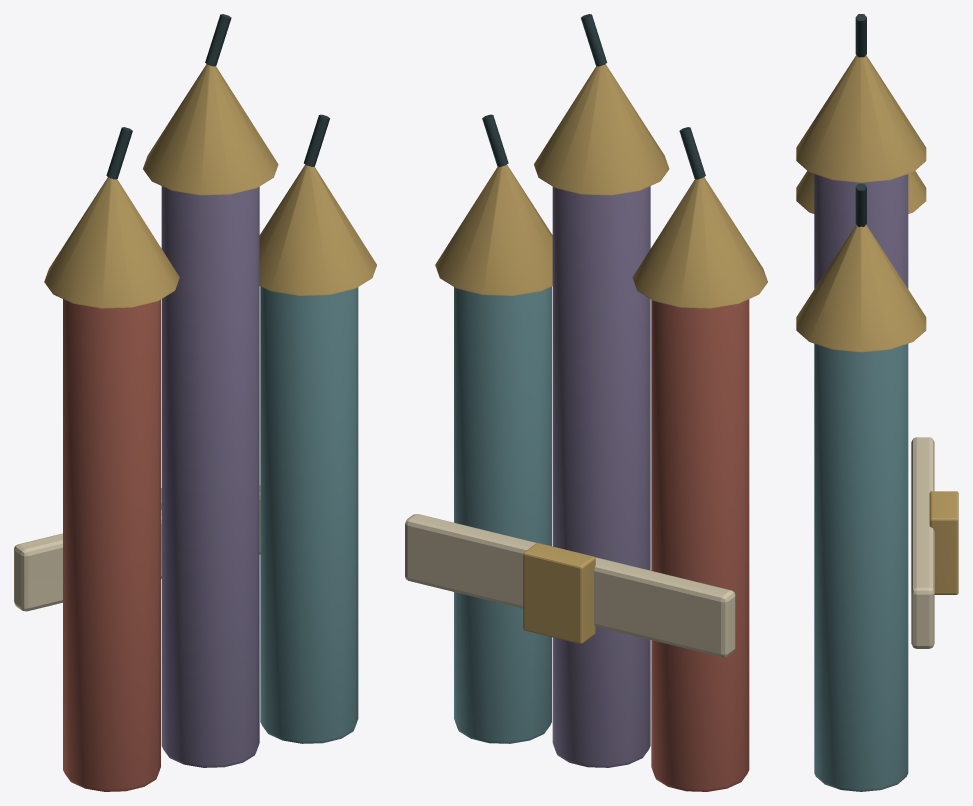
Rendered from firework.glb.
The picture shows the model from 3 angles, left to right: view 1: azimuth 30°, elevation 25°; view 2: azimuth 150°, elevation 25°; view 3: azimuth 270°, elevation 25°; orthographic projection.
Size of the model in its own units: 0.19 by 0.4109 by 0.0842.
